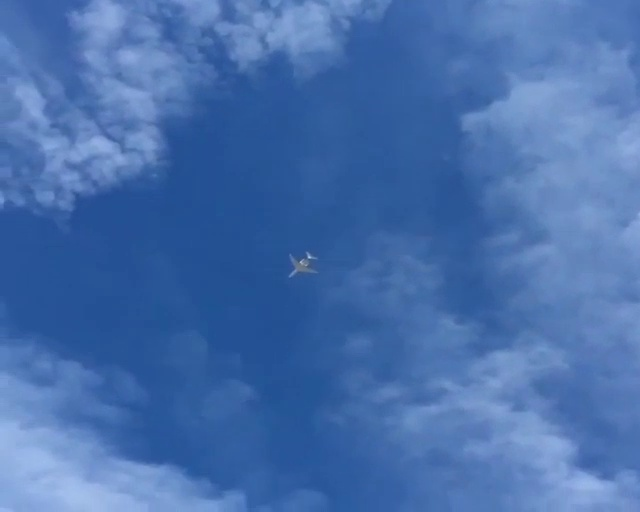AIRPLANE: (233, 234, 307, 300)
